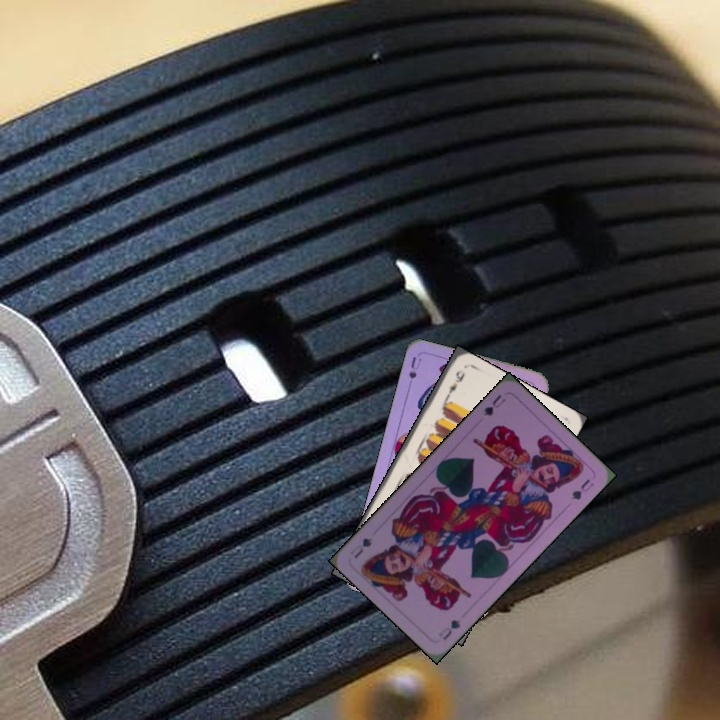E9: (441, 365, 468, 403)
GU: (479, 390, 508, 419), (435, 615, 463, 643)
SU: (403, 352, 424, 393)
